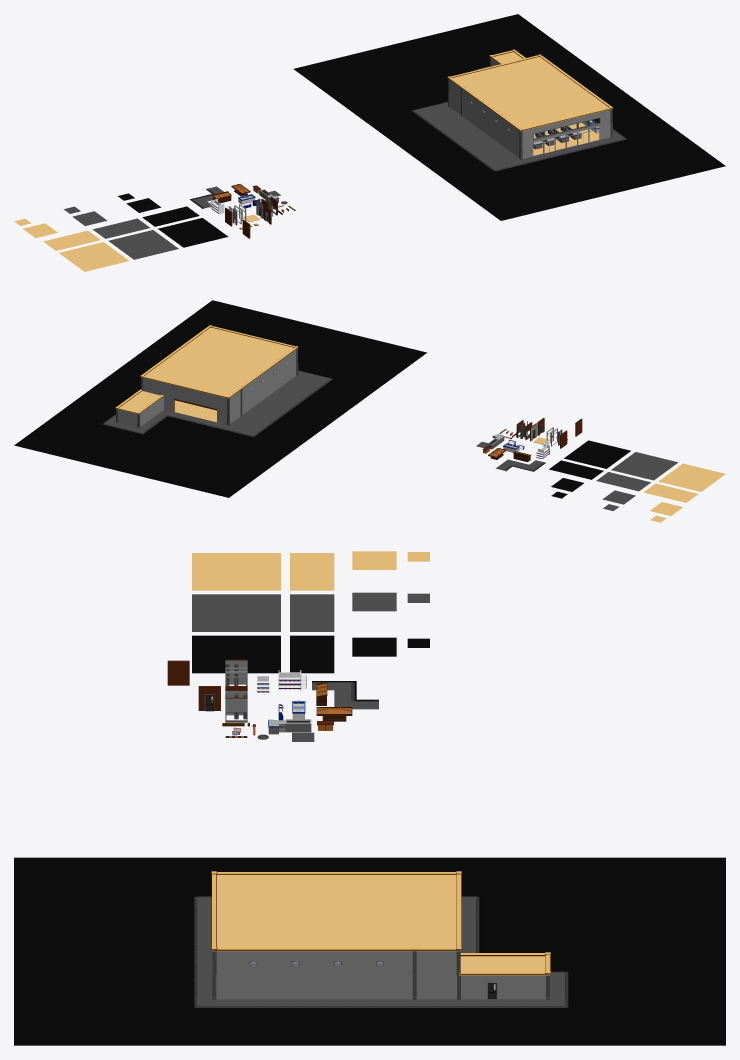
File: full_created buiding.fbx
3 renders of one model, top to bottom at view 1: azimuth 30°, elevation 25°; view 2: azimuth 150°, elevation 25°; view 3: azimuth 270°, elevation 25°, orthographic. The views are drawn at different scales.
Visible parts, largest first — view 1: Plane.019, Plane.127, Plane.007, Plane.018, Plane.021, Plane.025, Plane.085, Plane.103, Plane.120, Plane.006, Plane.008, Plane.009 (+26 smaller); view 2: Plane.127, Plane.017, Plane, Plane.120, Plane.007, Plane.009, Plane.019, Plane.024, Plane.006, Plane.008, Plane.011, Plane.016 (+24 smaller); view 3: Plane.010, Plane.011, Plane.019, Plane.022, Plane.024, Plane.027, Plane.084, Plane.009, Plane.120, Plane.127, Plane.012, Plane.013 (+27 smaller).
Boxes of the visible parts, left/top/right/bottom form: Plane.019: left=449, top=172, right=519, bottom=201; Plane.127: left=108, top=230, right=178, bottom=259; Plane.007: left=397, top=134, right=467, bottom=163; Plane.018: left=655, top=147, right=725, bottom=176; Plane.021: left=539, top=150, right=609, bottom=179; Plane.025: left=520, top=180, right=590, bottom=209; Plane.085: left=383, top=36, right=453, bottom=65; Plane.103: left=364, top=66, right=434, bottom=95; Plane.120: left=59, top=242, right=128, bottom=271; Plane.006: left=423, top=153, right=493, bottom=182; Plane.008: left=371, top=115, right=441, bottom=144; Plane.009: left=345, top=96, right=415, bottom=125; Plane.127: left=611, top=452, right=678, bottom=480; Plane.017: left=14, top=427, right=81, bottom=455; Plane: left=564, top=440, right=630, bottom=468; Plane.120: left=658, top=463, right=725, bottom=491; Plane.007: left=285, top=396, right=352, bottom=424; Plane.009: left=236, top=433, right=302, bottom=461; Plane.019: left=335, top=360, right=402, bottom=388; Plane.024: left=360, top=342, right=426, bottom=370; Plane.006: left=310, top=378, right=377, bottom=406; Plane.008: left=261, top=415, right=327, bottom=443; Plane.011: left=186, top=469, right=253, bottom=497; Plane.016: left=39, top=409, right=105, bottom=437; Plane.010: left=548, top=857, right=636, bottom=895; Plane.011: left=637, top=857, right=725, bottom=895; Plane.019: left=103, top=857, right=191, bottom=895; Plane.022: left=103, top=970, right=191, bottom=1008; Plane.024: left=14, top=857, right=102, bottom=895; Plane.027: left=14, top=970, right=102, bottom=1008; Plane.084: left=637, top=970, right=725, bottom=1008; Plane.009: left=459, top=857, right=547, bottom=895; Plane.120: left=192, top=553, right=280, bottom=590; Plane.127: left=192, top=594, right=280, bottom=631; Plane.012: left=192, top=1008, right=280, bottom=1045; Plane.013: left=281, top=1008, right=369, bottom=1045.
Bounding box in the file's own units: 13150 × 663 × 8000.
